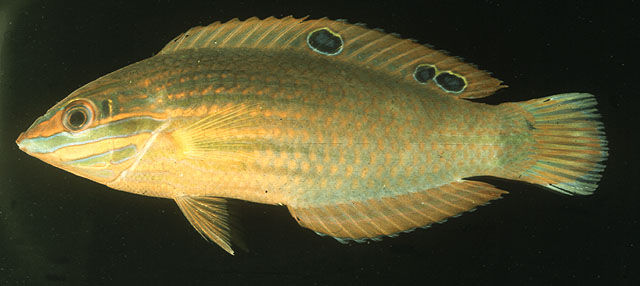fish: (15, 15, 608, 254)
